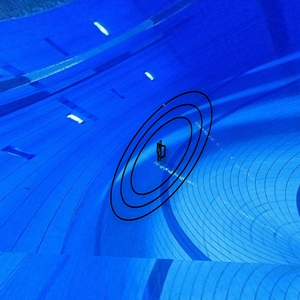circle: (107, 88, 219, 230)
submarine: (154, 139, 168, 166)
